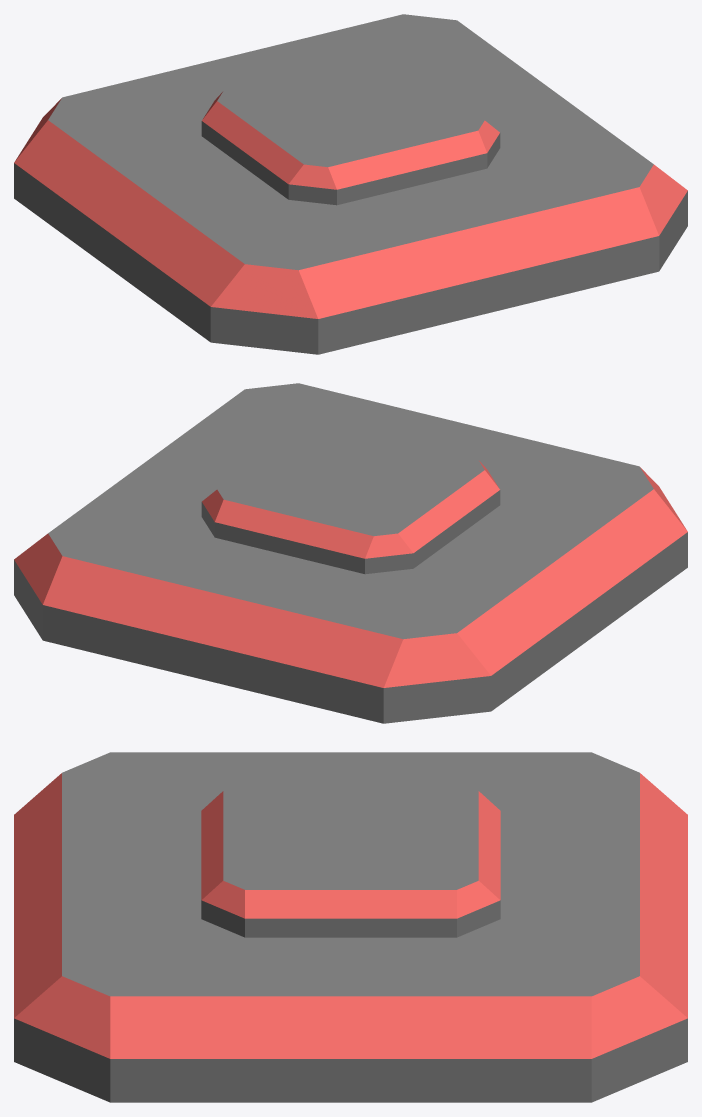
File: turret base.glb
3 renders of one model, top to bottom at view 1: azimuth 30°, elevation 25°; view 2: azimuth 150°, elevation 25°; view 3: azimuth 270°, elevation 25°, orthographic. The views are drawn at different scales.
Visible parts, largest first — view 1: geometry_0; view 2: geometry_0; view 3: geometry_0.
Boxes of the visible parts, x1=… form: geometry_0: x1=14, y1=14, x2=687, y2=354; geometry_0: x1=14, y1=383, x2=687, y2=723; geometry_0: x1=14, y1=752, x2=687, y2=1102.
Size of the model in its own units: 9.79 by 1.99 by 9.79.
